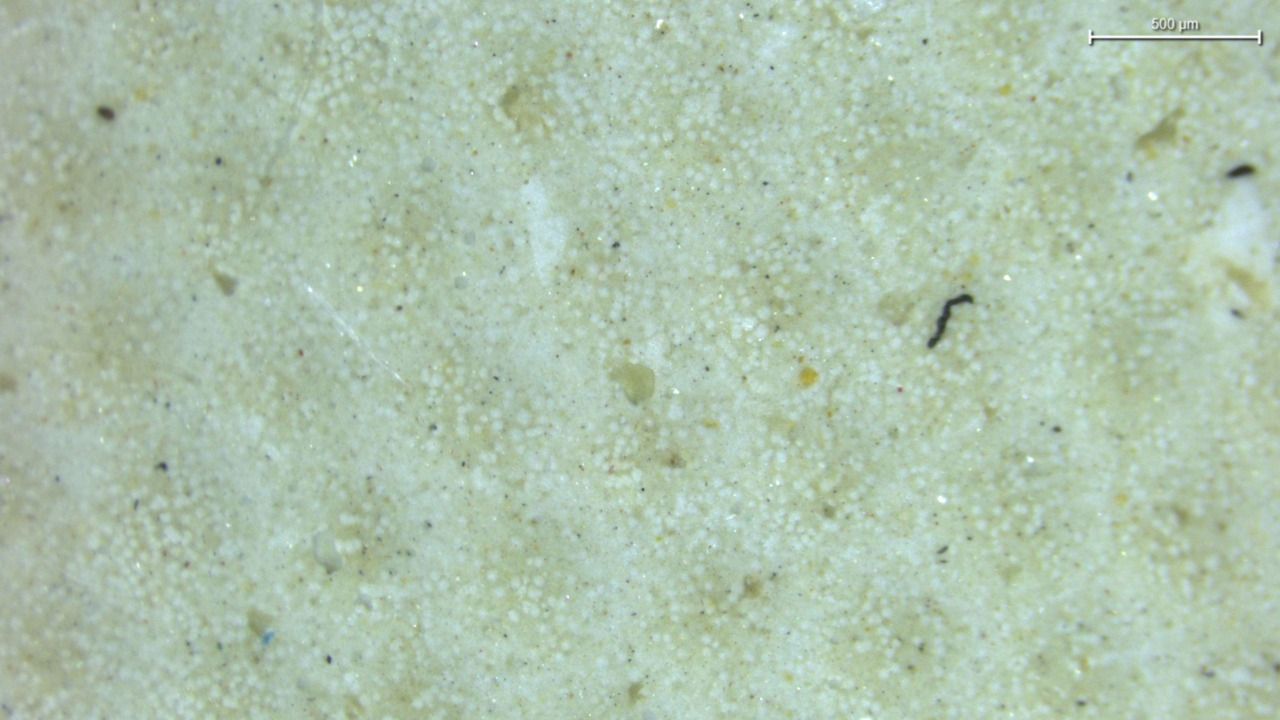microplastic_fragment: (611, 363, 655, 404)
